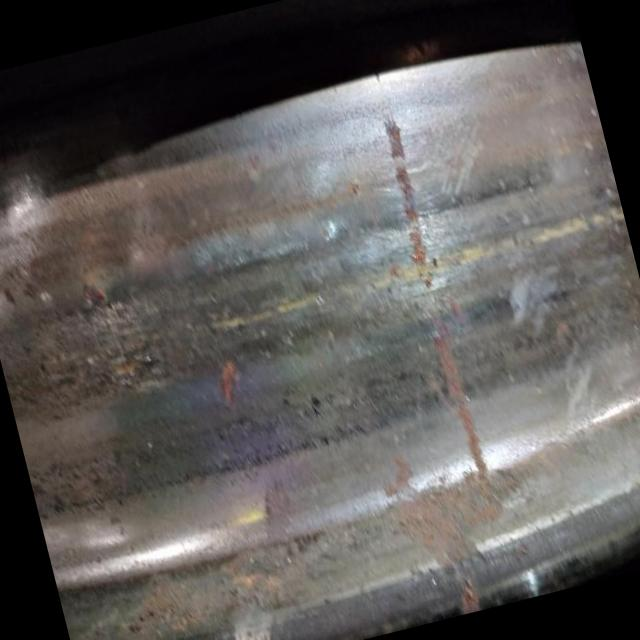Contact_Fatigue_Cracks: (208, 205, 631, 345)
Rollerpile: (32, 263, 180, 409)
